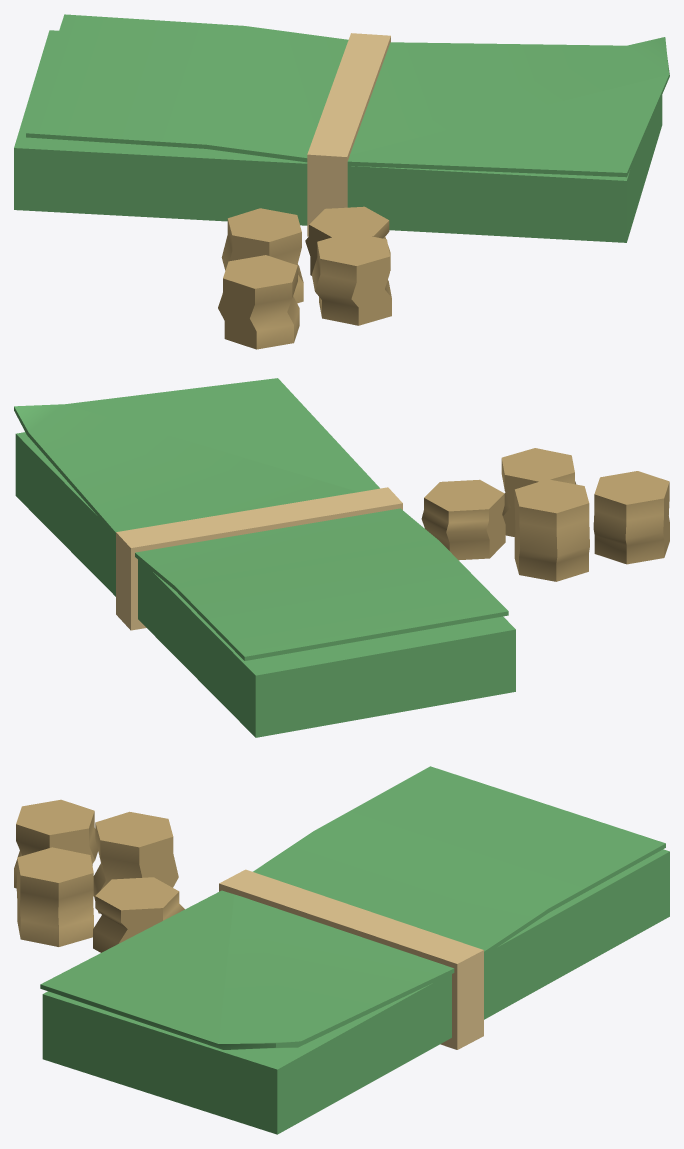
Rendered from money2 1.fbx.
3 views of the same model, one above another, from view 1: azimuth 30°, elevation 25°; view 2: azimuth 150°, elevation 25°; view 3: azimuth 270°, elevation 25° (orthographic). The views are drawn at different scales.
Parts seen in each view (by area): view 1: pCube4; view 2: pCube4; view 3: pCube4.
Boxes of the visible parts, x1,y1,x2,y2 form: pCube4: [14, 14, 669, 349]; pCube4: [14, 378, 669, 737]; pCube4: [14, 766, 669, 1134].
Bounding box in the file's own units: 16.44 × 2.68 × 15.45.
